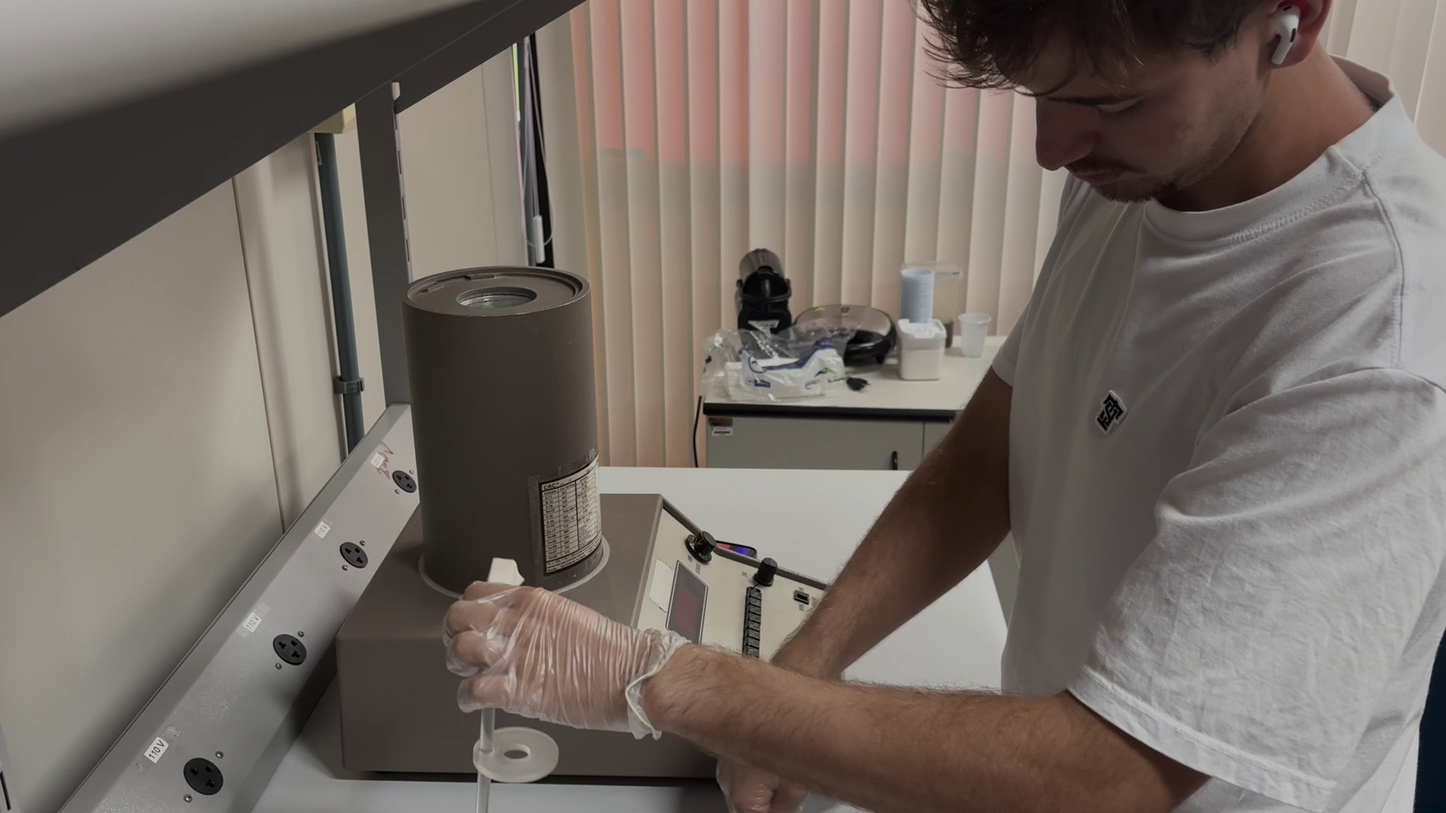Ativimetro: (399, 247, 610, 586)
Cesta: (471, 553, 557, 813)
Com_Luva: (443, 577, 700, 742), (712, 756, 804, 813)
